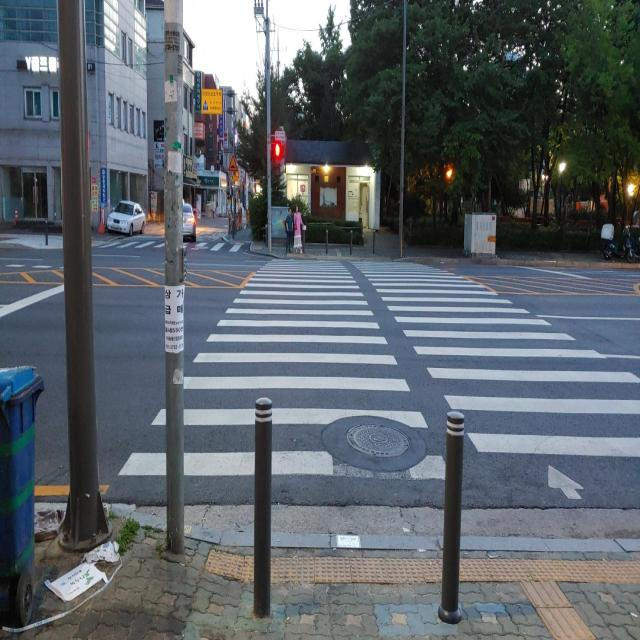빨간불: (273, 140, 283, 174)
횡단보도: (115, 256, 640, 502)
